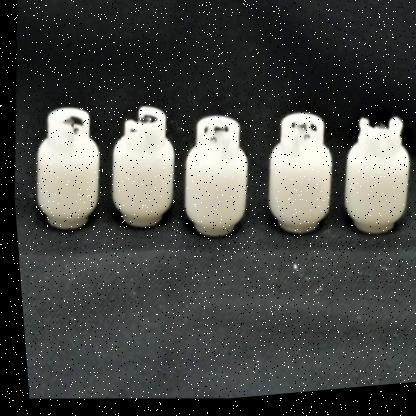gas-tank: (157, 102, 265, 257), (317, 104, 415, 258), (246, 103, 345, 255), (91, 99, 183, 240), (22, 103, 113, 244)
